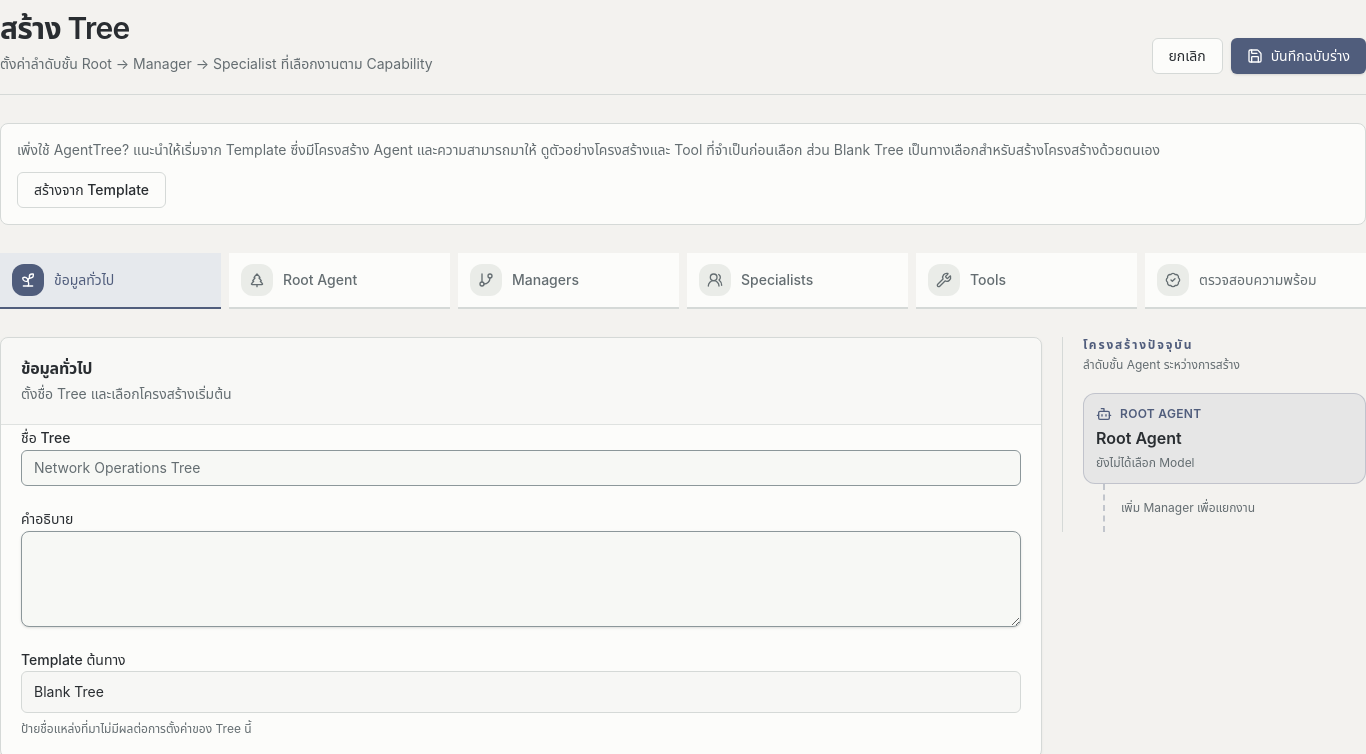
keeps draft validation separate from the translated Ready action in th
Type "Presentation draft" into the field with placeholder "Network Operations Tree" at (521, 468), box [21, 450, 1021, 486]
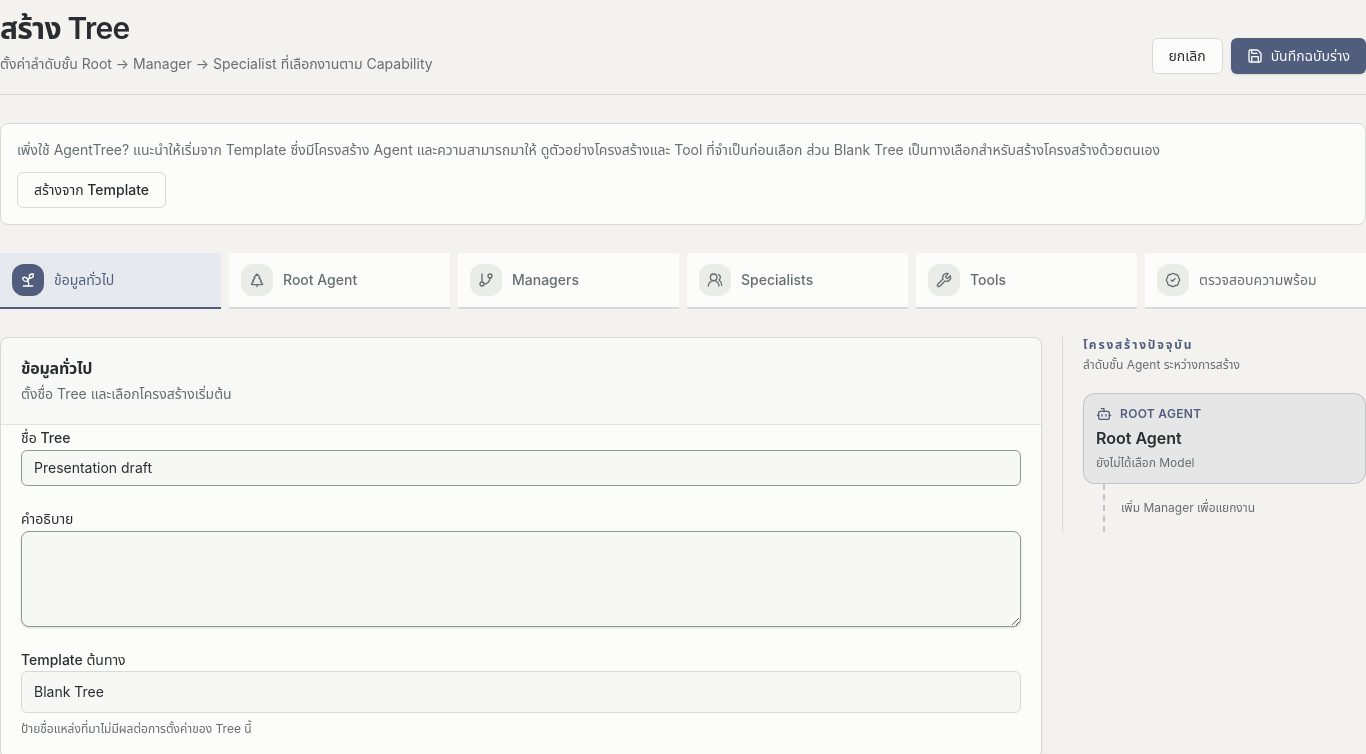
Click the button "ตรวจสอบความพร้อม" at (1256, 281), box [1145, 253, 1365, 309]
(page scrolled)
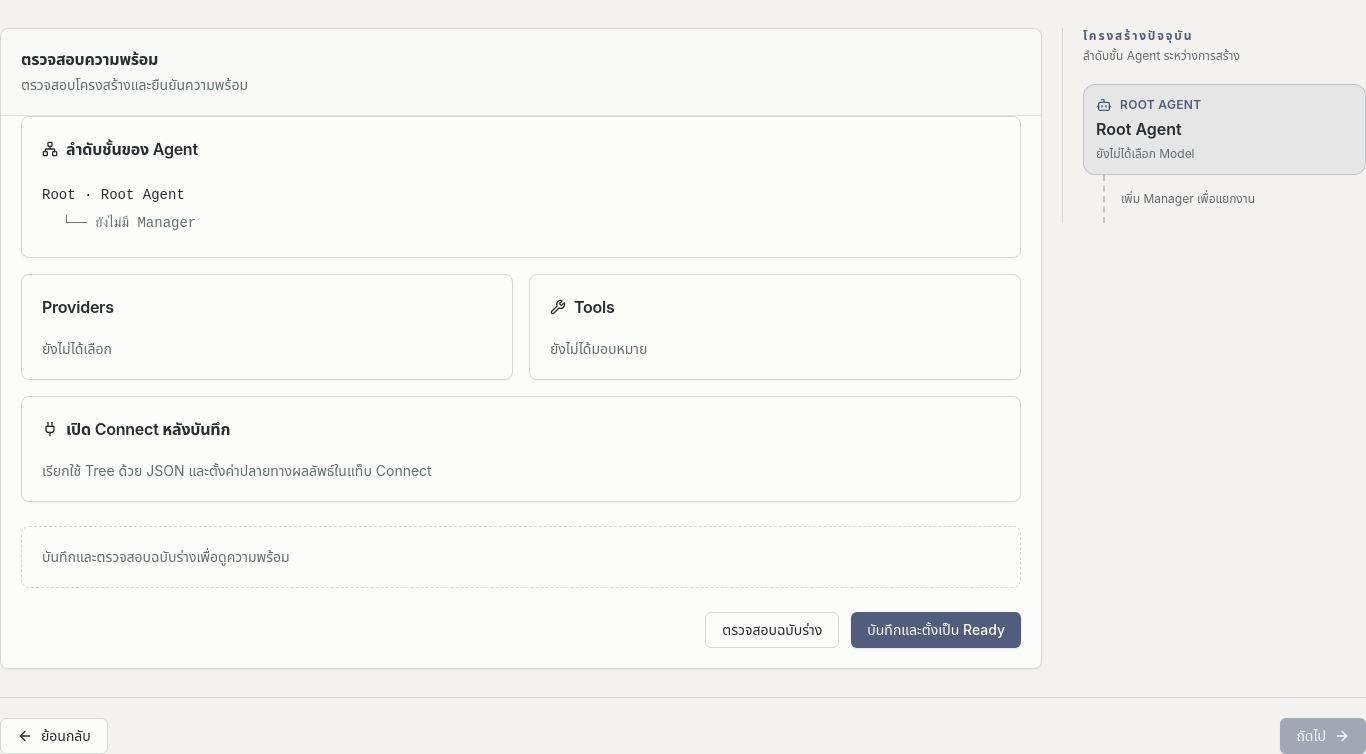
Result: the button "บันทึกและตั้งเป็น Ready" is shown at [851, 612, 1021, 648]
Click the button "ตรวจสอบฉบับร่าง" at (772, 630), box [705, 612, 839, 648]
(page scrolled)
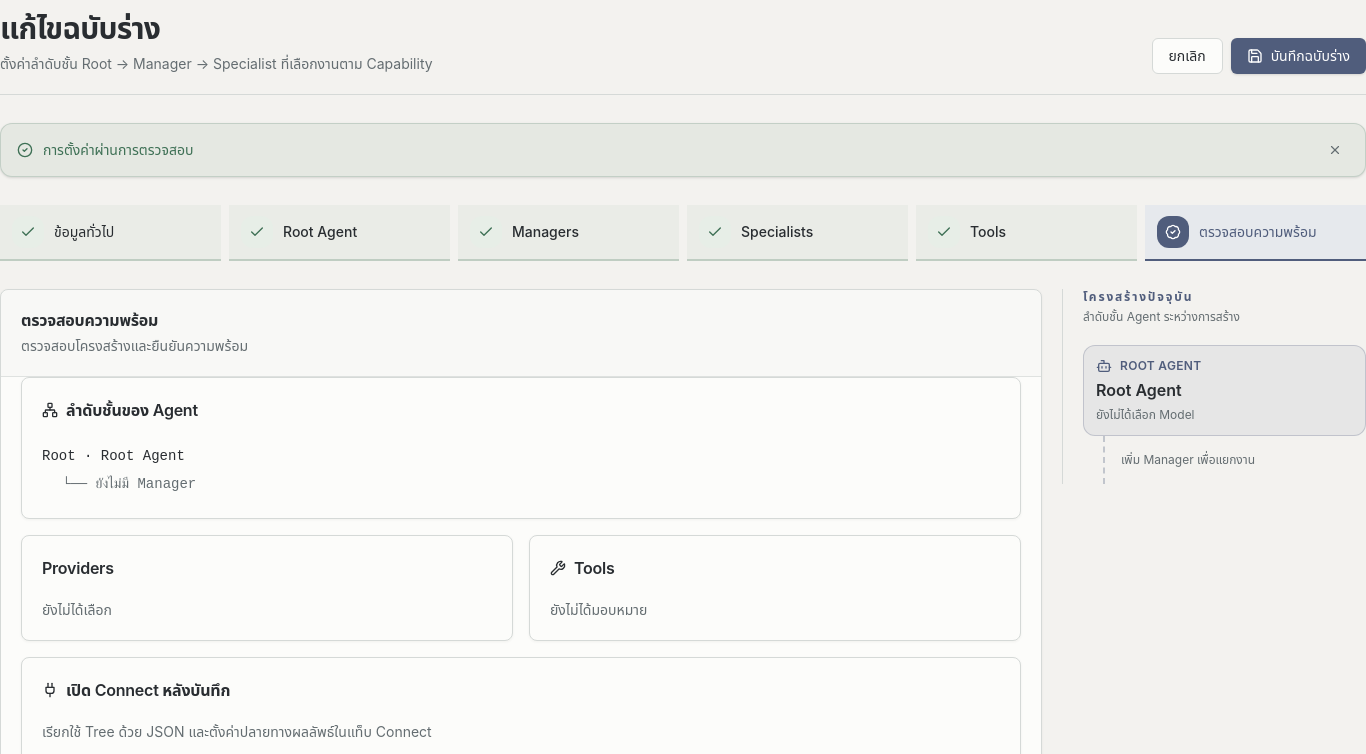
Result: the text "การตั้งค่าผ่านการตรวจสอบ" is shown at [43, 140, 194, 160]
